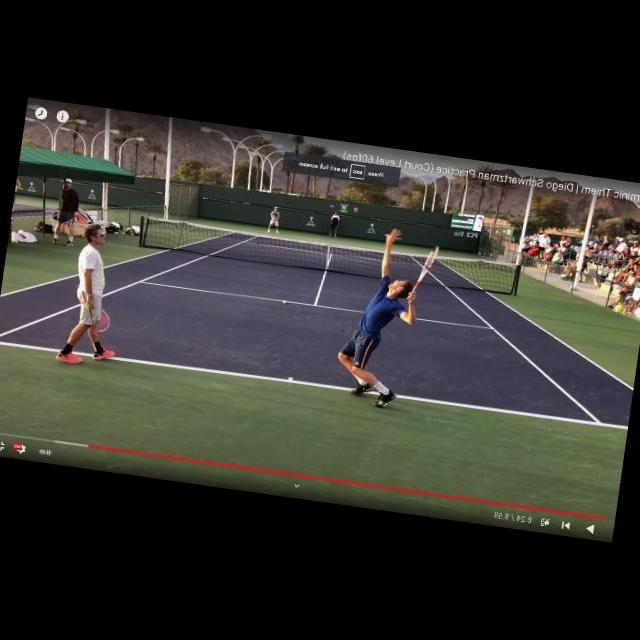Tennis Ball: (282, 300, 288, 304)
